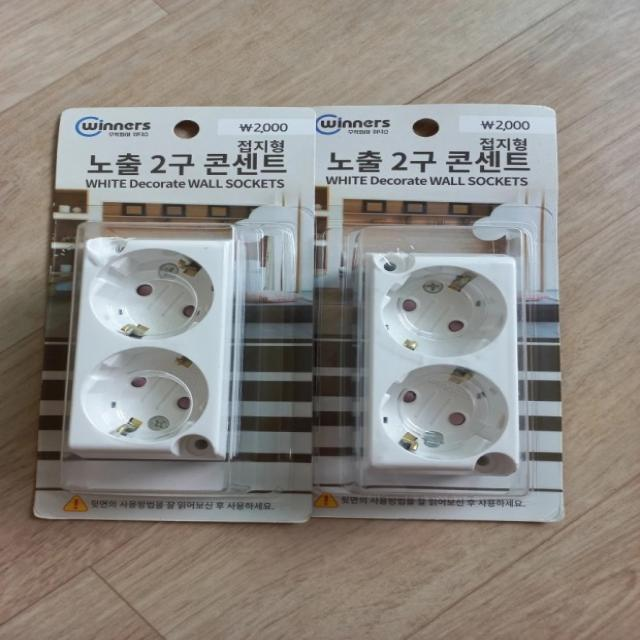typeb: (328, 182, 558, 542), (54, 184, 256, 506)
